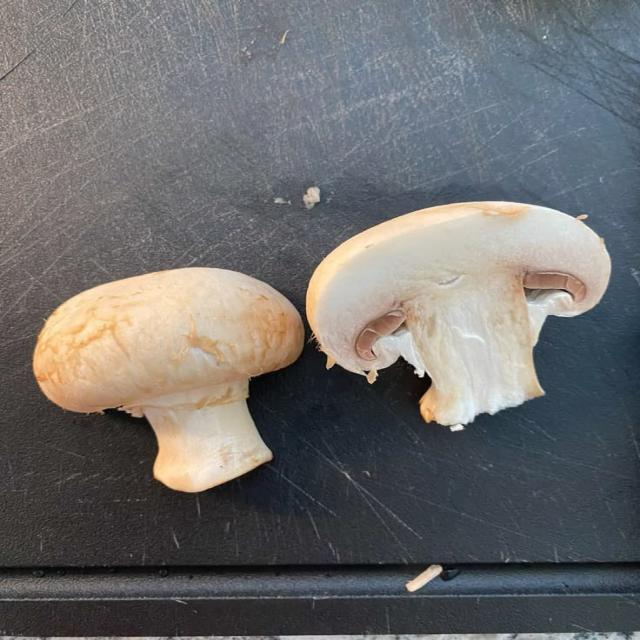champignon mushrooms: (307, 202, 610, 425), (34, 268, 303, 491)
